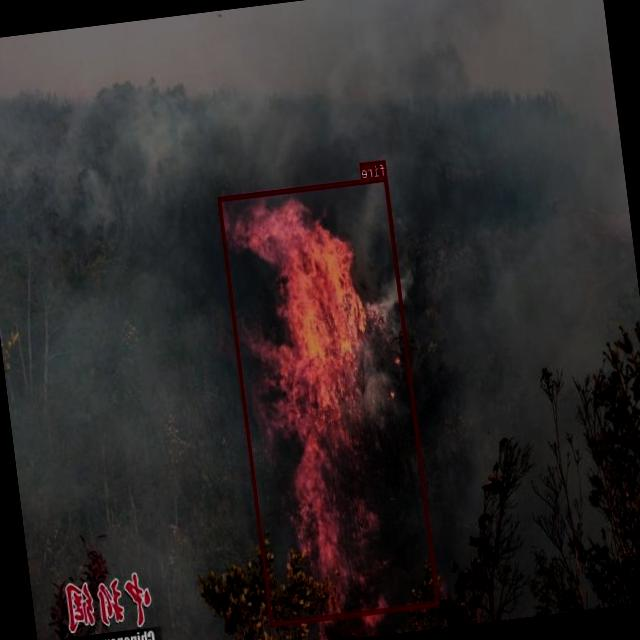fire: (218, 176, 440, 624)
